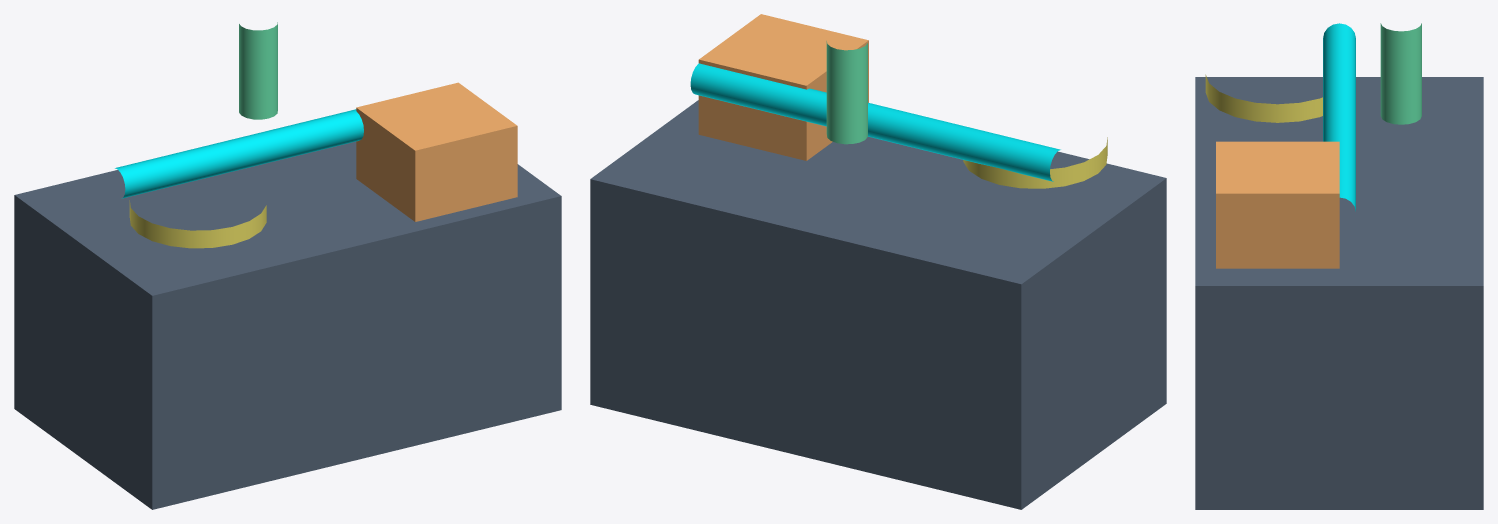
The model's file is advanced_web_tech.glb.
The picture shows the model from 3 angles, left to right: view 1: azimuth 30°, elevation 25°; view 2: azimuth 150°, elevation 25°; view 3: azimuth 270°, elevation 25°; orthographic projection. The views are drawn at different scales.
Parts seen in each view (by area): view 1: CloudGatewayServer, SPARouterSwitchNode, WebSocketBusConduit, AsyncRestEmitter, JWTTokenAuthShield; view 2: CloudGatewayServer, SPARouterSwitchNode, WebSocketBusConduit, AsyncRestEmitter, JWTTokenAuthShield; view 3: CloudGatewayServer, SPARouterSwitchNode, WebSocketBusConduit, AsyncRestEmitter, JWTTokenAuthShield.
Boxes of the visible parts, x1,y1,x2,y2 form: CloudGatewayServer: [14, 141, 561, 509]; SPARouterSwitchNode: [356, 82, 517, 221]; WebSocketBusConduit: [115, 109, 363, 198]; AsyncRestEmitter: [239, 22, 277, 119]; JWTTokenAuthShield: [129, 200, 266, 248]; CloudGatewayServer: [590, 100, 1166, 509]; SPARouterSwitchNode: [698, 14, 868, 160]; WebSocketBusConduit: [690, 63, 1060, 181]; AsyncRestEmitter: [826, 41, 867, 144]; JWTTokenAuthShield: [963, 137, 1107, 188]; CloudGatewayServer: [1195, 77, 1483, 509]; SPARouterSwitchNode: [1216, 141, 1339, 268]; WebSocketBusConduit: [1323, 23, 1355, 211]; AsyncRestEmitter: [1380, 23, 1421, 124]; JWTTokenAuthShield: [1205, 74, 1322, 122].
Bounding box in the file's own units: 2.4 × 2.05 × 1.4.
